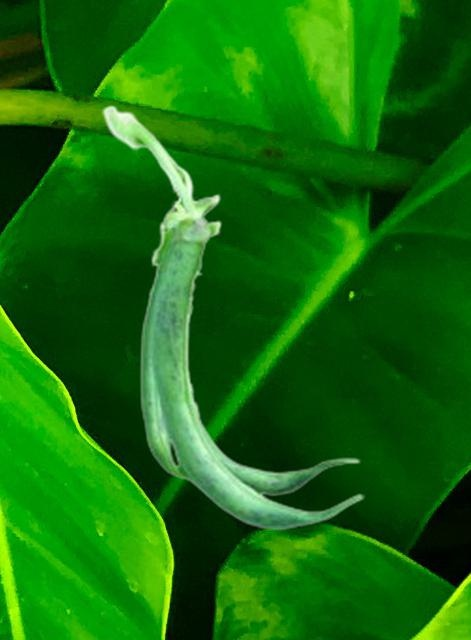french_bean: (101, 104, 363, 530)
